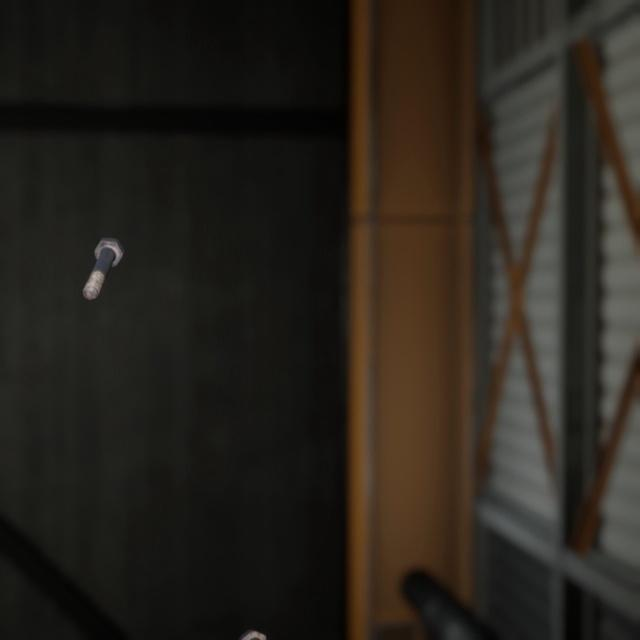bolt: (78, 217, 129, 288), (234, 600, 285, 640)
